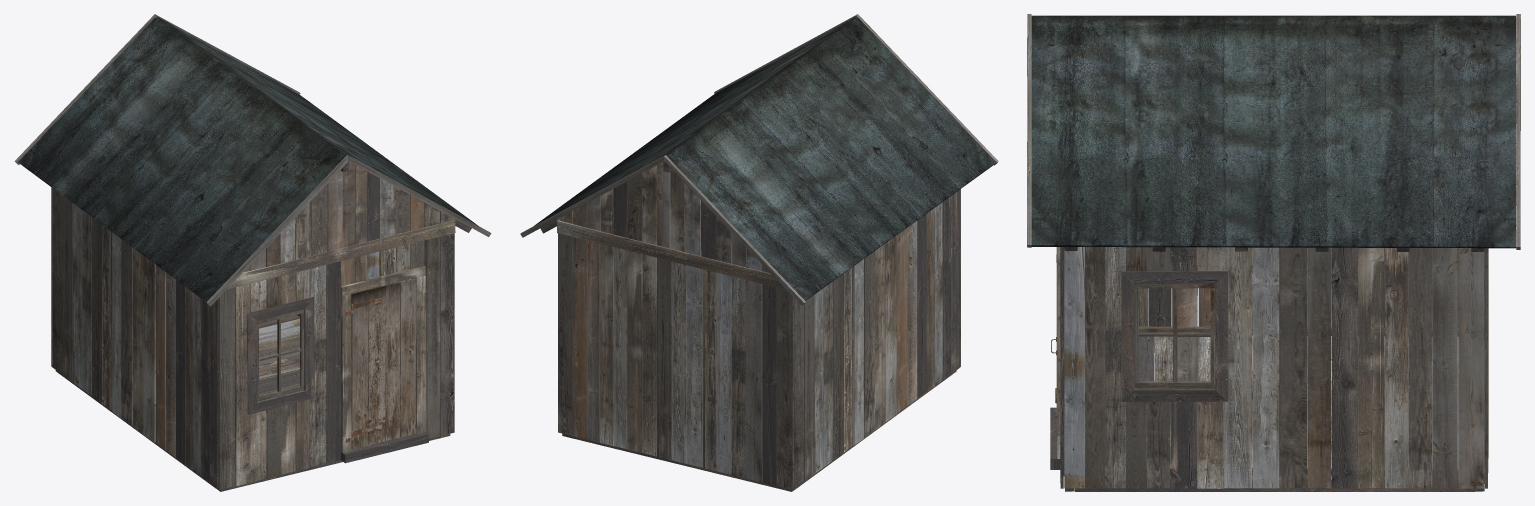
File: hut.glb
3 views of the same model, side by side, from view 1: azimuth 30°, elevation 25°; view 2: azimuth 150°, elevation 25°; view 3: azimuth 270°, elevation 25° (orthographic). The views are drawn at different scales.
Visible parts, largest first — view 1: Base, Door; view 2: Base; view 3: Base.
Boxes of the visible parts, x1,y1,x2,y2 form: Base: [14, 14, 491, 491]; Door: [351, 278, 416, 448]; Base: [520, 14, 998, 491]; Base: [1027, 14, 1520, 491].
Bounding box in the file's own units: 299 × 320 × 353.
Materials: 1 (1 with a texture image).
